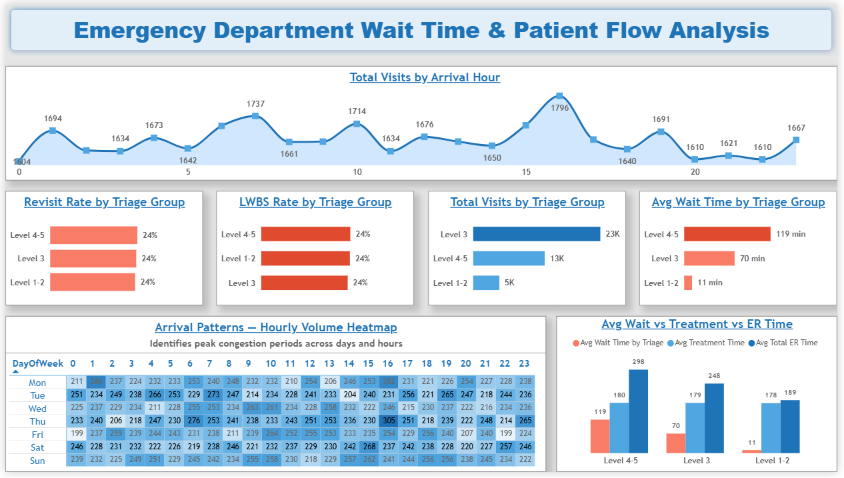

The page's visual inventory and layout, read from the dashboard file:
{"tool":"powerbi","page":{"name":"Patient Flow Analysis","canvas":[1280,720],"ordinal":1},"visuals":[{"type":"shape","box":[0,0,1280,80],"z":0},{"type":"lineChart","fields":{"Category":["er_visits.Arrival Hour"],"Y":["Measures Table 1.Total Visits"]},"box":[0,96,1280,176],"z":1000},{"type":"pivotTable","title":"Arrival Patterns — Hourly Volume Heatmap","fields":{"Columns":["er_visits.Arrival Hour"],"Rows":["Calendar.DayOfWeek"],"Values":["Measures Table 2.Visits by Hour"]},"box":[0,480,832,240],"z":2000},{"type":"clusteredBarChart","fields":{"Category":["er_visits.Triage Group"],"Y":["Measures Table 2.Total Visits by Triage Group"]},"box":[650.7,288,304,176],"z":3000},{"type":"clusteredBarChart","title":"Avg Wait Time by Triage Group","fields":{"Category":["er_visits.Triage Group"],"Y":["Measures Table 2.Avg Wait Time by Triage"]},"box":[976,288,304,176],"z":4000},{"type":"clusteredBarChart","title":"LWBS Rate by Triage Group","fields":{"Category":["er_visits.Triage Group"],"Y":["Measures Table 2.LWBS Rate by Triage Group %"]},"box":[325.3,288,304,176],"z":5000},{"type":"clusteredColumnChart","title":"Avg Wait vs Treatment vs ER Time","fields":{"Category":["er_visits.Triage Group"],"Y":["Measures Table 2.Avg Wait Time by Triage","Measures Table 2.Avg Treatment Time","Measures Table 2.Avg Total ER Time"]},"box":[848,480,432,240],"z":6000},{"type":"clusteredBarChart","title":"Revisit Rate by Triage Group","fields":{"Category":["er_visits.Triage Group"],"Y":["Measures Table 2.Revisit Rate by Triage Group"]},"box":[0,288,304,176],"z":7000}]}

Visuals, with their boxes in screenshot pixels (x1, y1, x2, y2), scaled from the page's 1280x720 canvas onto the 844x478 screenshot:
shape: l=0, t=0, r=843, b=53
lineChart - er_visits.Arrival Hour x Measures Table 1.Total Visits: l=0, t=64, r=843, b=181
"Arrival Patterns — Hourly Volume Heatmap" pivotTable: l=0, t=319, r=549, b=477
clusteredBarChart - er_visits.Triage Group x Measures Table 2.Total Visits by Triage Group: l=429, t=191, r=630, b=308
"Avg Wait Time by Triage Group" clusteredBarChart: l=644, t=191, r=843, b=308
"LWBS Rate by Triage Group" clusteredBarChart: l=214, t=191, r=415, b=308
"Avg Wait vs Treatment vs ER Time" clusteredColumnChart: l=559, t=319, r=843, b=477
"Revisit Rate by Triage Group" clusteredBarChart: l=0, t=191, r=200, b=308
